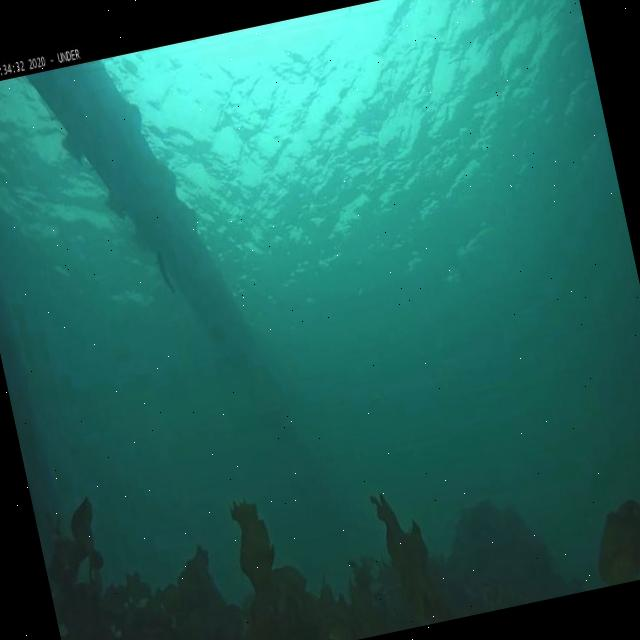fish: (152, 248, 176, 296)
